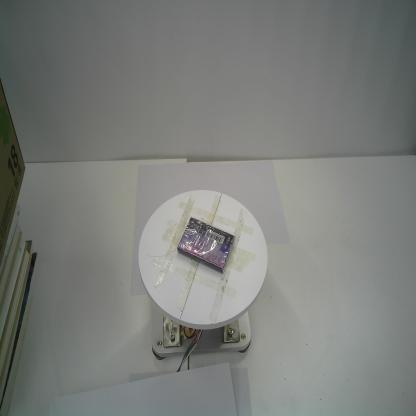Gum: (176, 215, 236, 274)
